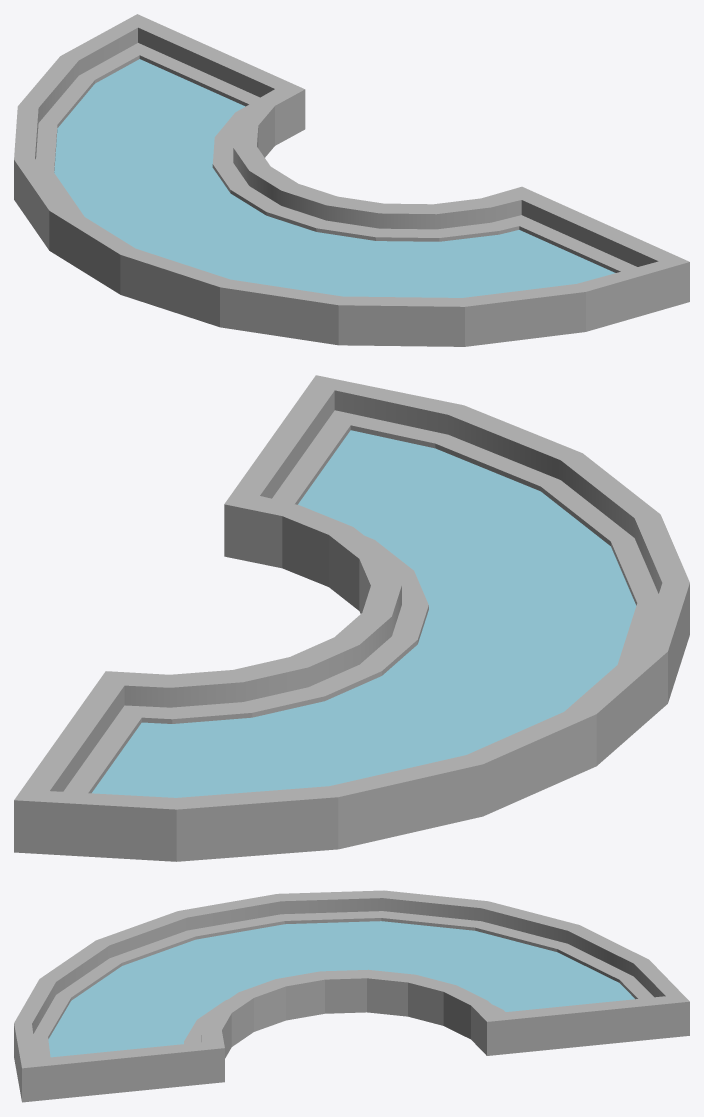
File: MSH_CurvaPanel.fbx
3 views of the same model, one above another, from view 1: azimuth 30°, elevation 25°; view 2: azimuth 150°, elevation 25°; view 3: azimuth 270°, elevation 25° (orthographic). The views are drawn at different scales.
Parts seen in each view (by area): view 1: polySurface65; view 2: polySurface65; view 3: polySurface65.
Boxes of the visible parts, box(x1,y1,x2,y2) form: polySurface65: box(14, 14, 689, 346); polySurface65: box(14, 375, 689, 861); polySurface65: box(14, 890, 689, 1102).
Size of the model in its own units: 11.99 by 1.07 by 19.25.
